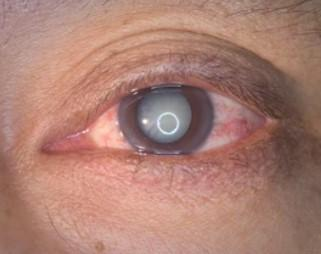eye: (117, 84, 216, 154)
